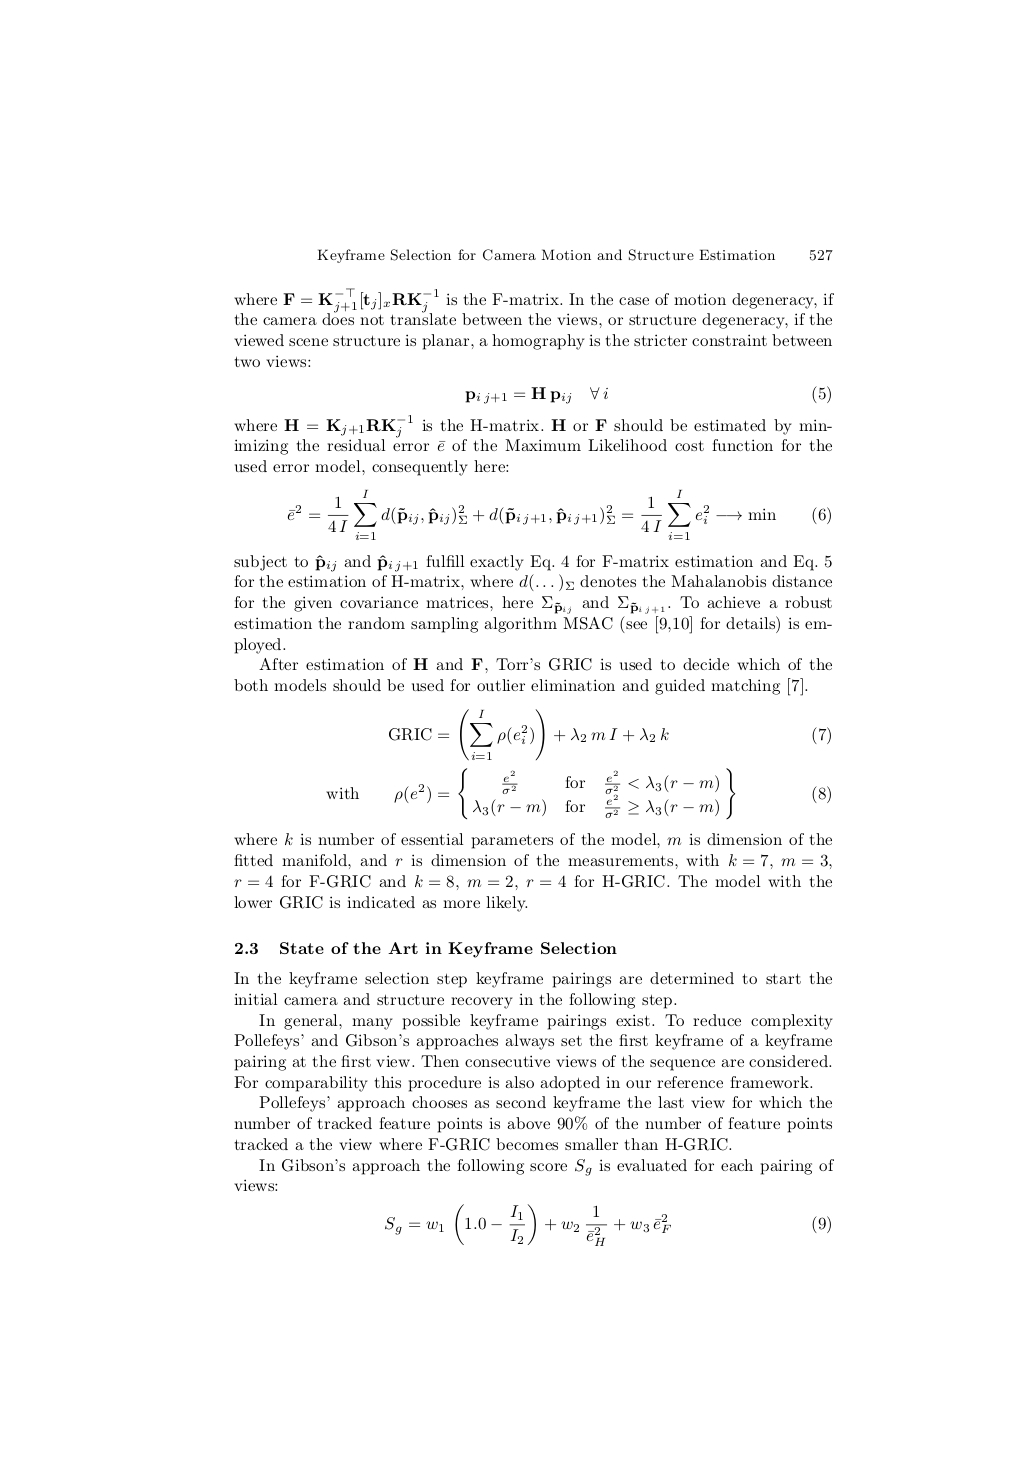formula: (287, 487, 830, 540), (326, 767, 830, 820), (389, 708, 830, 761), (385, 1202, 830, 1246), (465, 385, 830, 404)
